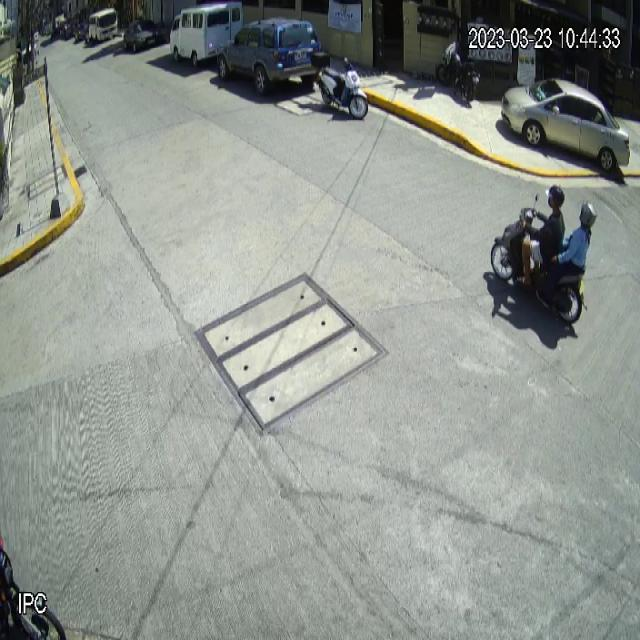Car: (501, 77, 632, 175), (215, 18, 324, 98)
Motorcycle: (308, 51, 369, 120)
Van: (169, 0, 245, 68)
